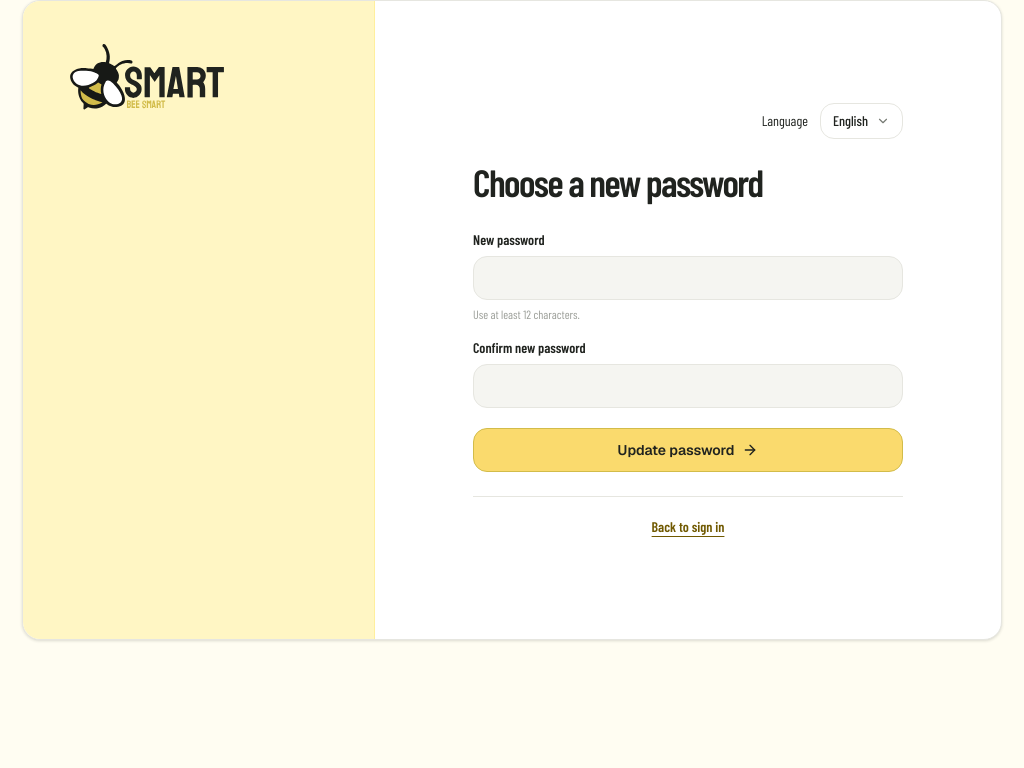
authentication pages › uses the shared success layout after updating a password
Type "a-new-secure-password" into the password field labelled "New password" at [688, 278], box [473,256,903,300]
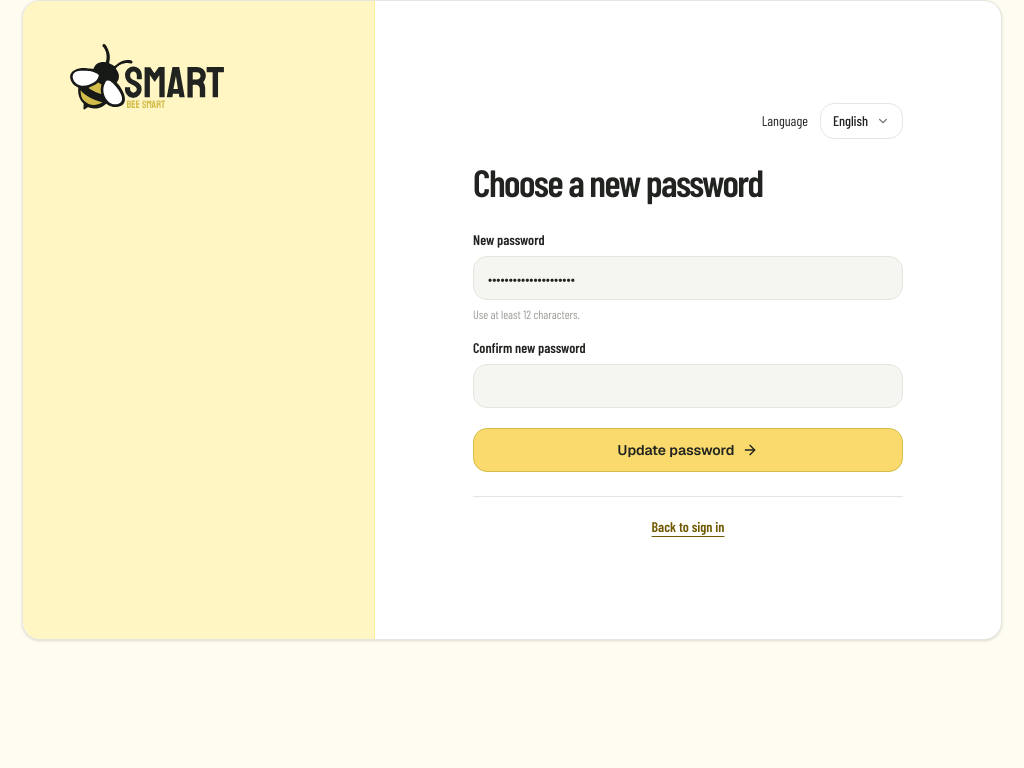
Type "a-new-secure-password" into the password field labelled "Confirm new password" at [688, 386], box [473,364,903,408]
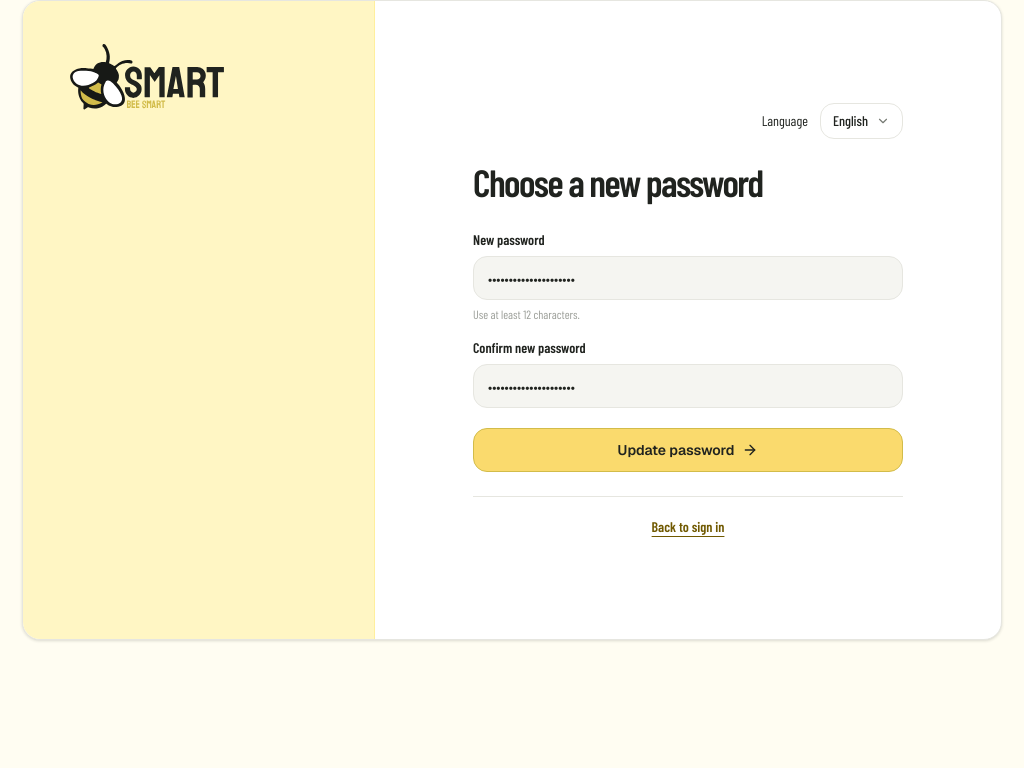
Click the button "Update password" at [688, 450], box [473,428,903,472]
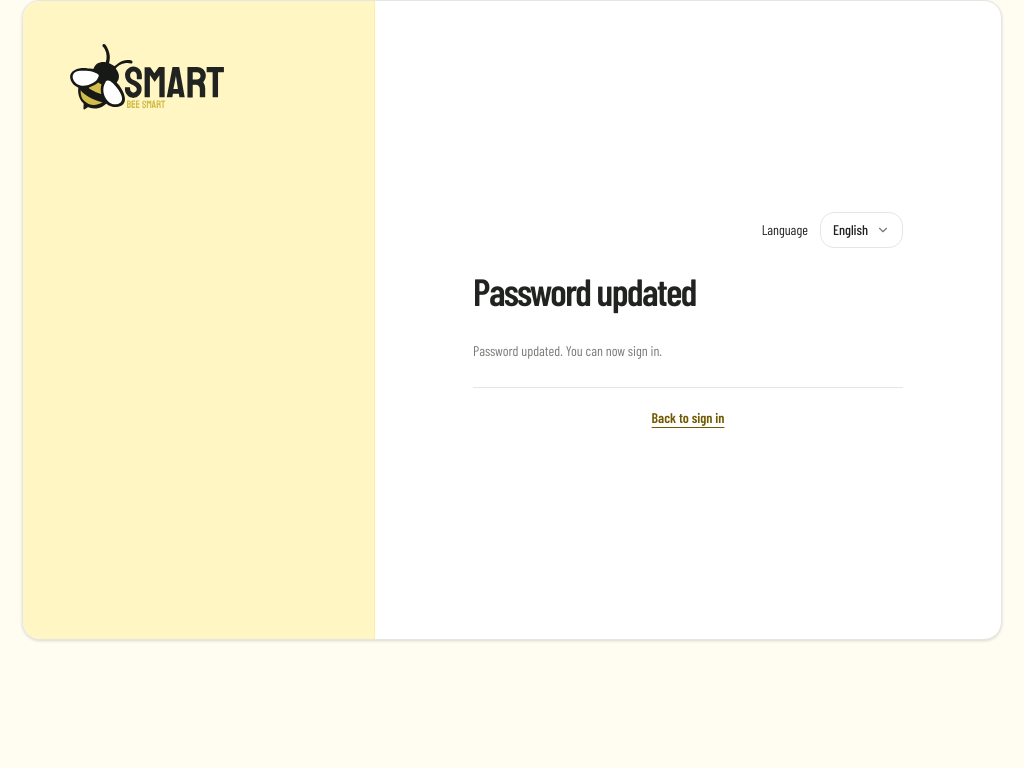
Expected: the number of links "Back to sign in" is 1, [652,409,724,426]
Expected: the heading "Password updated" is shown, [473,268,696,314]
